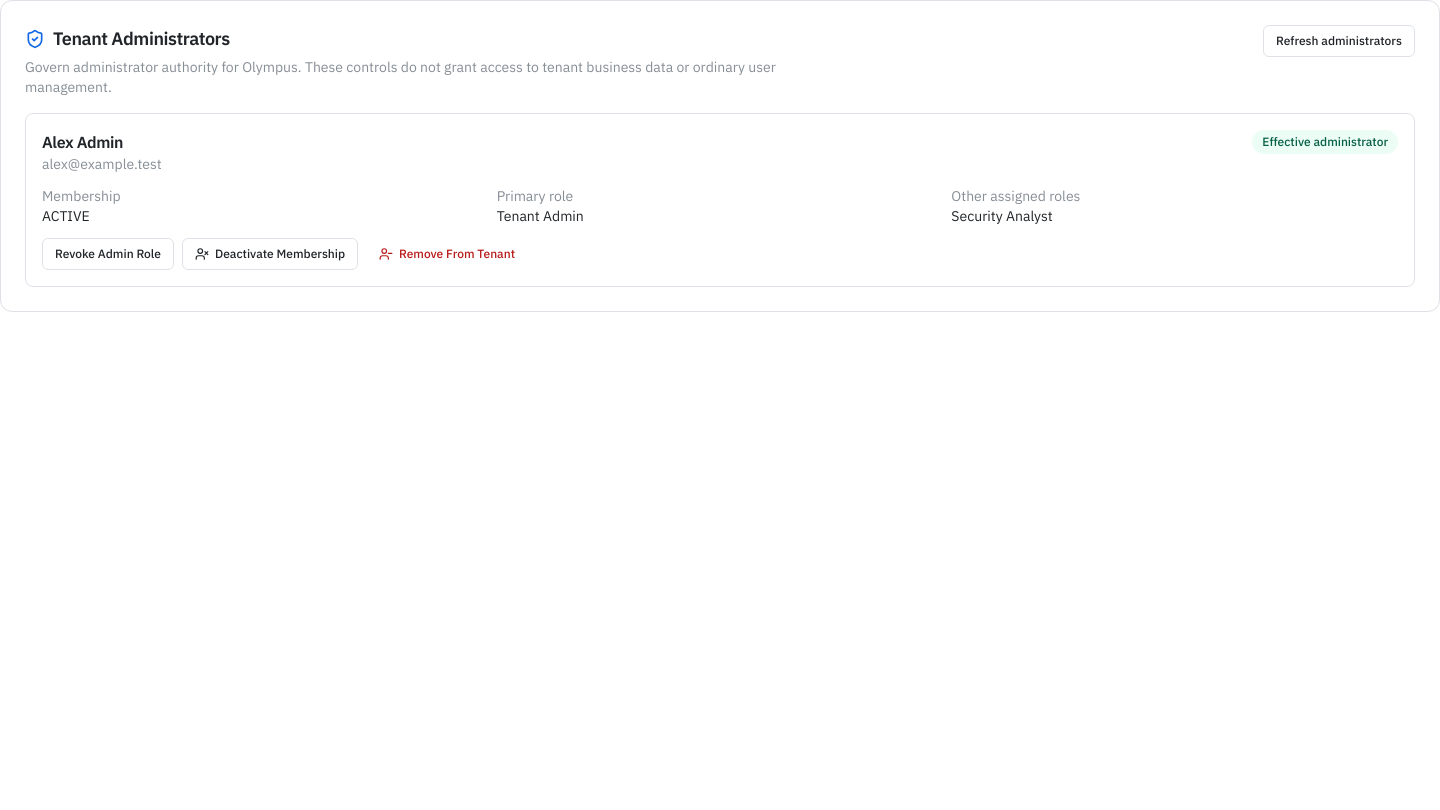
Test: shows last-effective-admin protection without removing administrator records
Expected: the heading "Alex Admin" is shown, [42,132,123,152]
What coordinates should you click on to do the following:
click the button "Remove From Tenant"
I would click on:
 (447, 254)
Its box is [366,238,528,270].
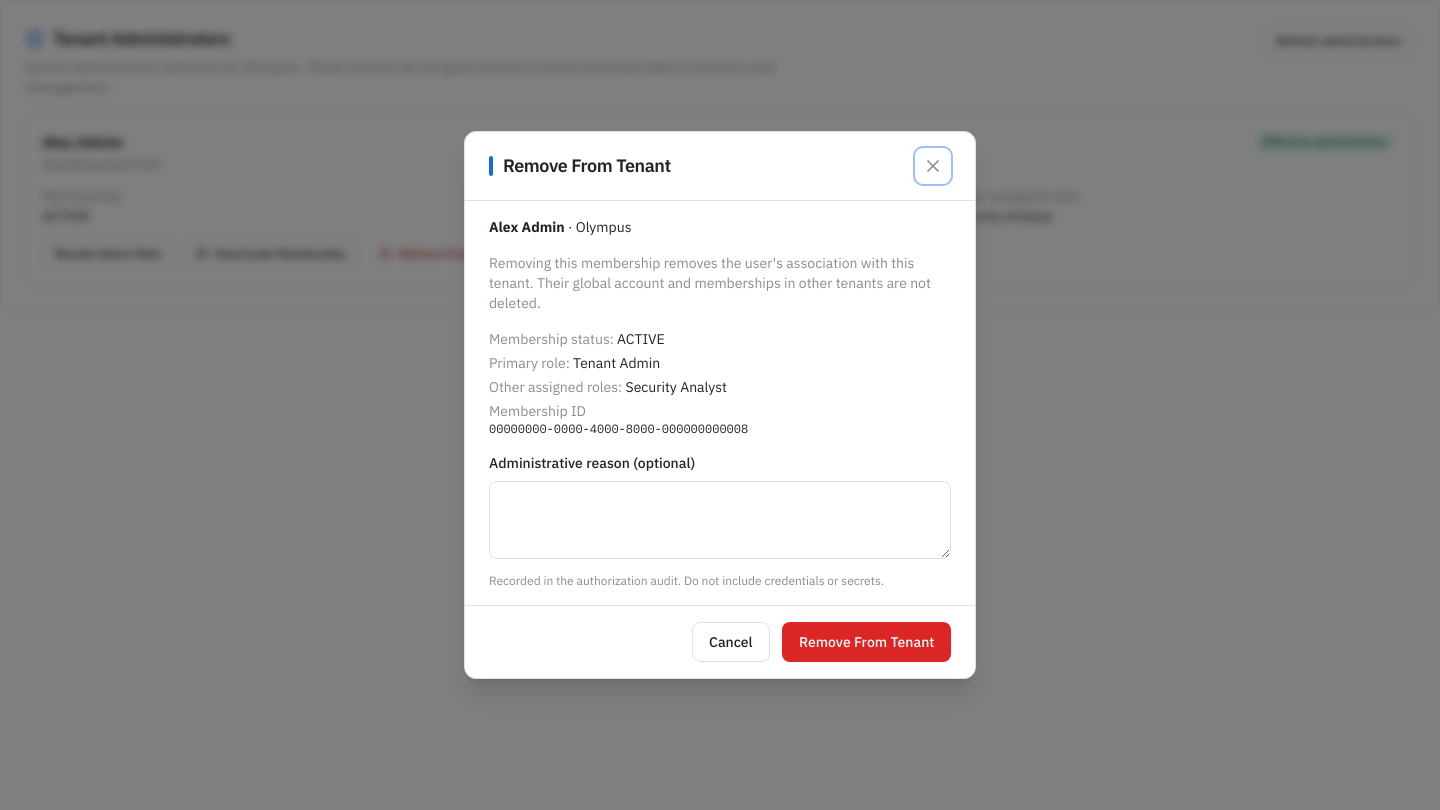
What coordinates should you click on to do the following:
click the button "Remove From Tenant"
I would click on:
 (866, 642)
Its box is [782,622,951,662].
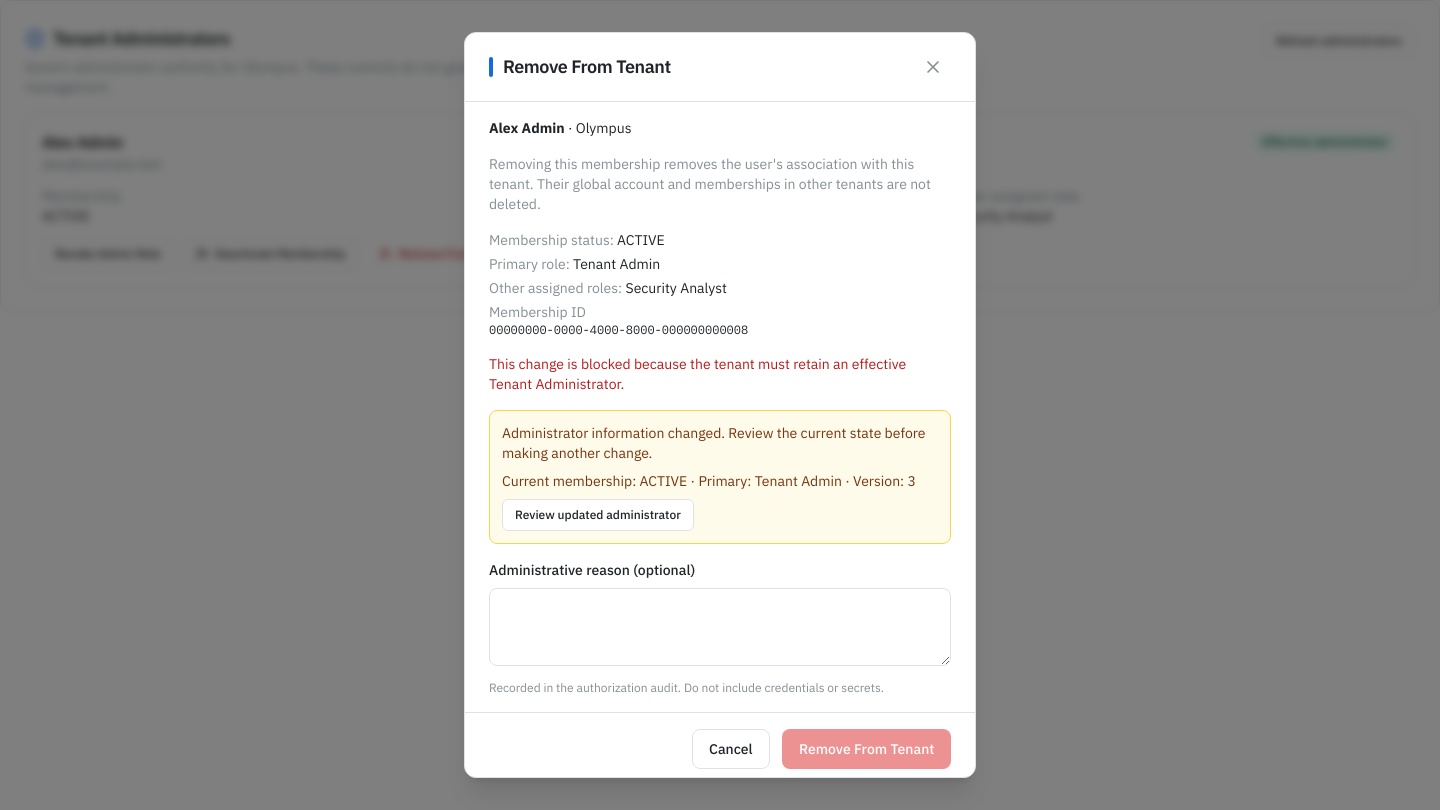
Expected: the heading "Alex Admin" is shown, [42,132,123,152]
Now the message shows "must retain an effective Tenant Administrator", box [489,355,906,393]
